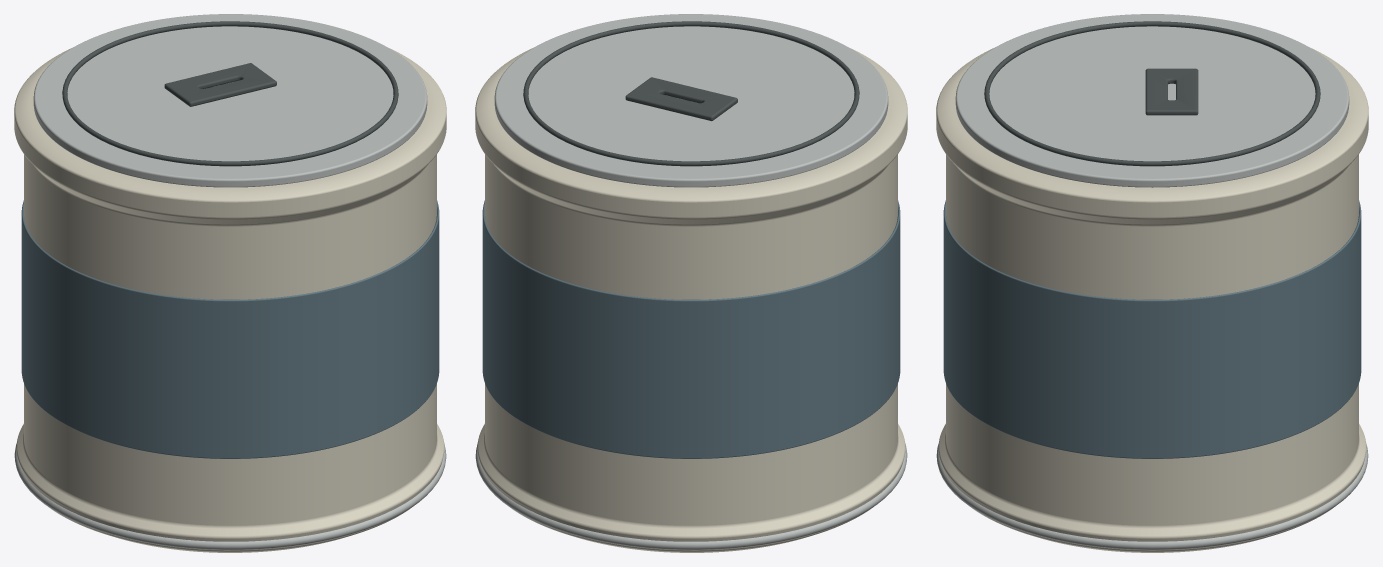
Rendered from grease.fbx.
3 views of the same model, side by side, from view 1: azimuth 30°, elevation 25°; view 2: azimuth 150°, elevation 25°; view 3: azimuth 270°, elevation 25° (orthographic).
Visible parts, largest first — view 1: grease_LOD0; view 2: grease_LOD0; view 3: grease_LOD0.
Boxes of the visible parts, x1,y1,x2,y2 form: grease_LOD0: (14,14,446,552); grease_LOD0: (475,14,907,552); grease_LOD0: (936,14,1368,552).
Size of what is drawn, in the model's own units: 0.222 by 0.2155 by 0.222.
